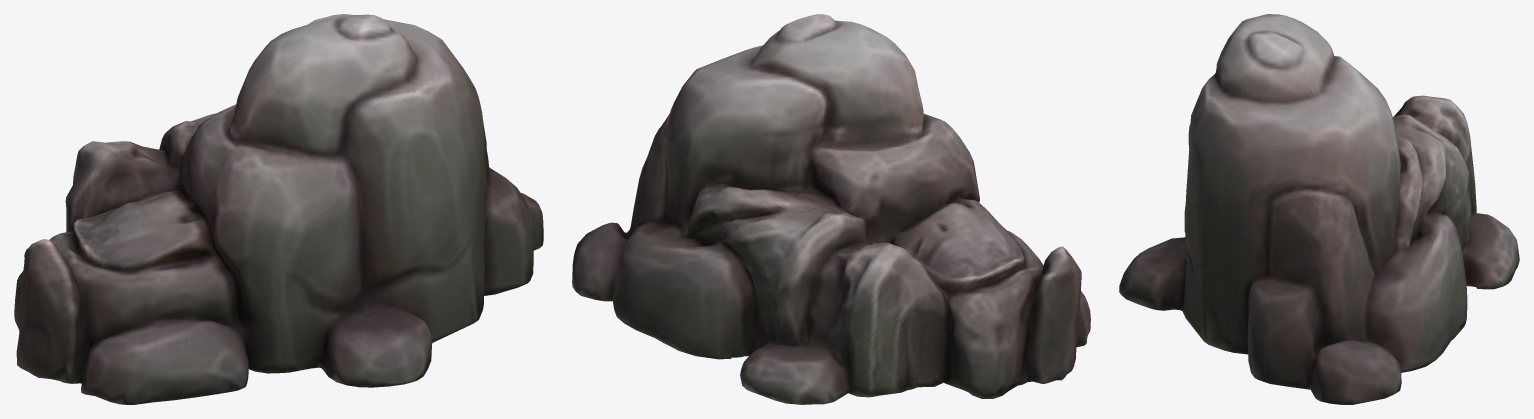
File: sp-fels-gross-2.glb
3 views of the same model, side by side, from view 1: azimuth 30°, elevation 25°; view 2: azimuth 150°, elevation 25°; view 3: azimuth 270°, elevation 25° (orthographic). The views are drawn at different scales.
Visible parts, largest first — view 1: sp-fels-gross-2; view 2: sp-fels-gross-2; view 3: sp-fels-gross-2.
Part boxes in pixels (x1=…): sp-fels-gross-2: x1=14, y1=14, x2=543, y2=404; sp-fels-gross-2: x1=572, y1=14, x2=1090, y2=404; sp-fels-gross-2: x1=1119, y1=14, x2=1519, y2=404.
Bounding box in the file's own units: 7.4 × 4.02 × 5.29.
1 material, 1 textured.
